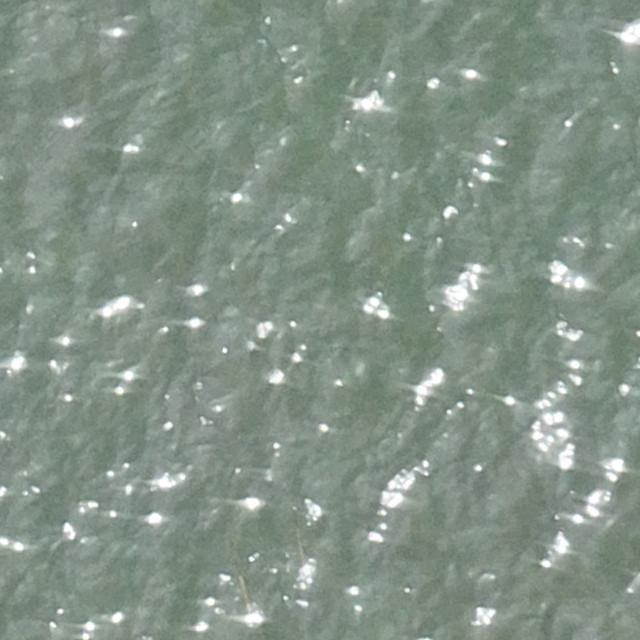umineko: (2, 537, 26, 550)
